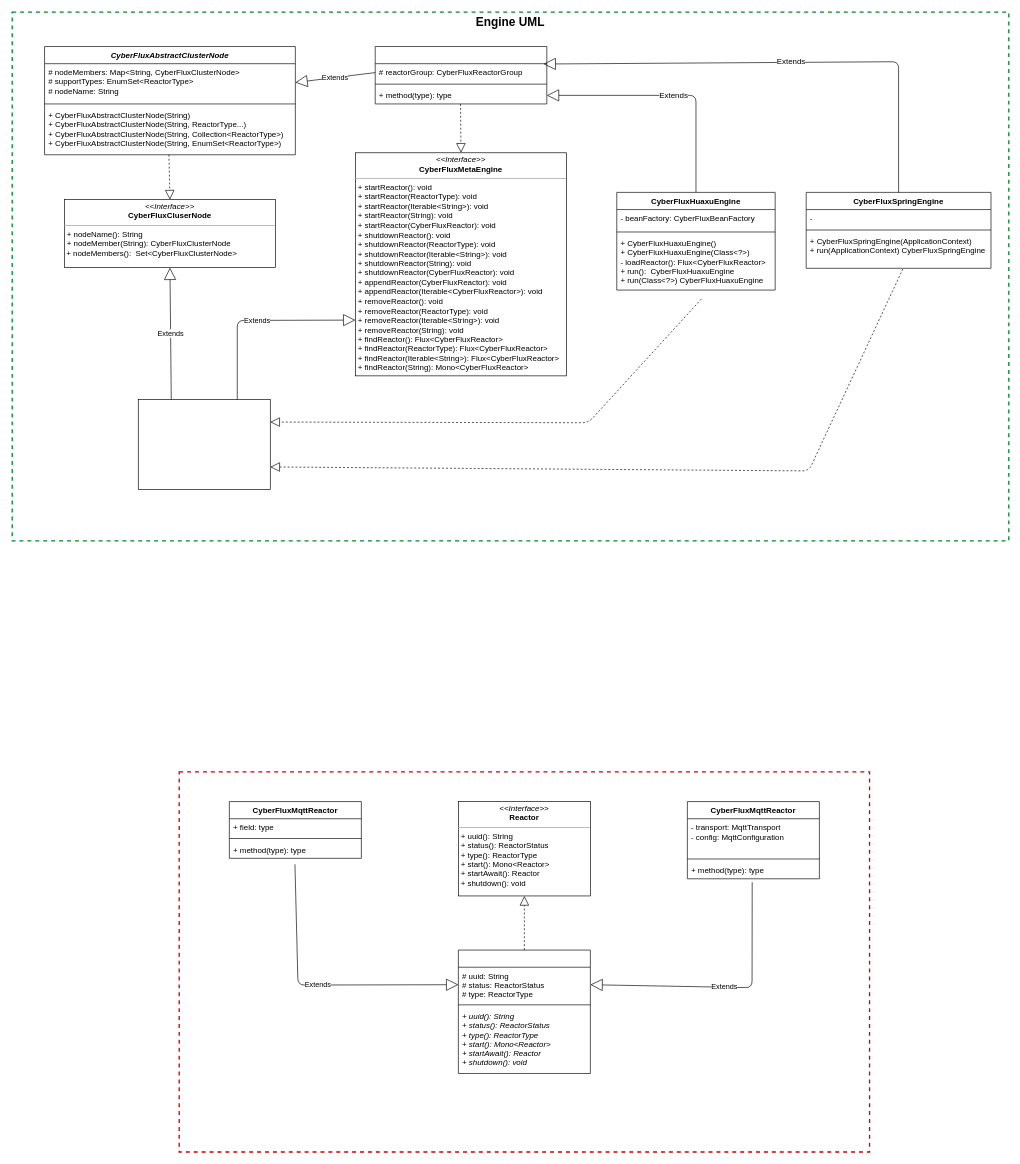
The diagram is 1020 pixels wide and 1164 high, and some of its shapes have lost their labels. Here are the shapes that lost their labels. From the top down, the box of each, then its label:
(375, 46, 547, 104): CyberFluxTemplateEngine
(138, 399, 270, 489): <<Interface>> CyberFluxNodeEngine
(178, 771, 870, 1152): Reactor UML
(458, 949, 590, 1073): AbstractReactor
